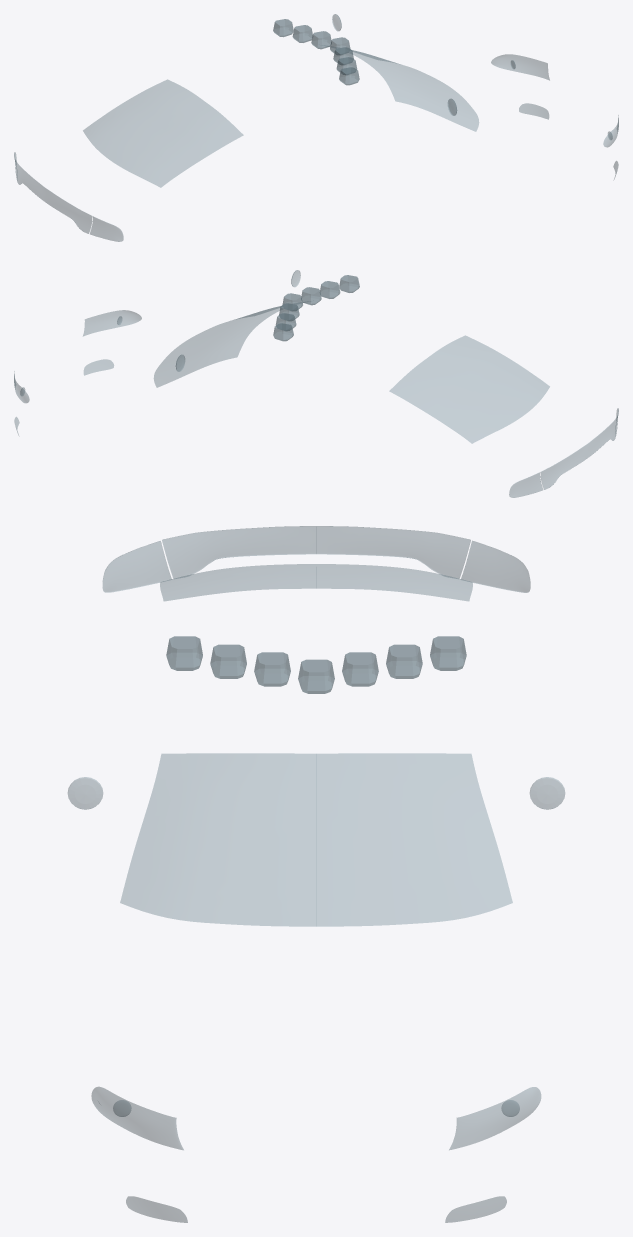
The picture shows the model from 3 angles, top to bottom: view 1: azimuth 30°, elevation 25°; view 2: azimuth 150°, elevation 25°; view 3: azimuth 270°, elevation 25°; orthographic projection. The views are drawn at different scales.
Visible parts, largest first — view 1: SM_DodgeChargerCop_Glass_Int1; view 2: SM_DodgeChargerCop_Glass_Int1; view 3: SM_DodgeChargerCop_Glass_Int1.
Part boxes in pixels (<box>): SM_DodgeChargerCop_Glass_Int1: <box>14,14,618,241</box>; SM_DodgeChargerCop_Glass_Int1: <box>14,270,618,497</box>; SM_DodgeChargerCop_Glass_Int1: <box>68,526,564,1222</box>.
Size of the model in its own units: 4.75 by 1.36 by 1.9.
